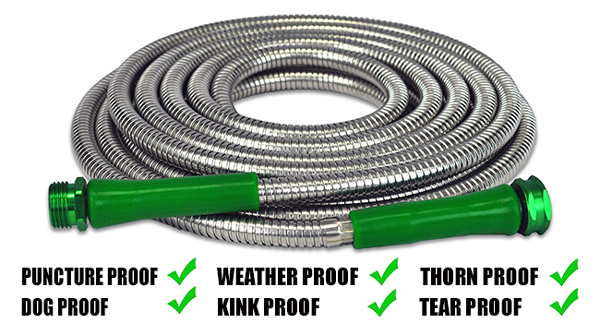Nonrec_Tangler: (40, 13, 566, 240)
